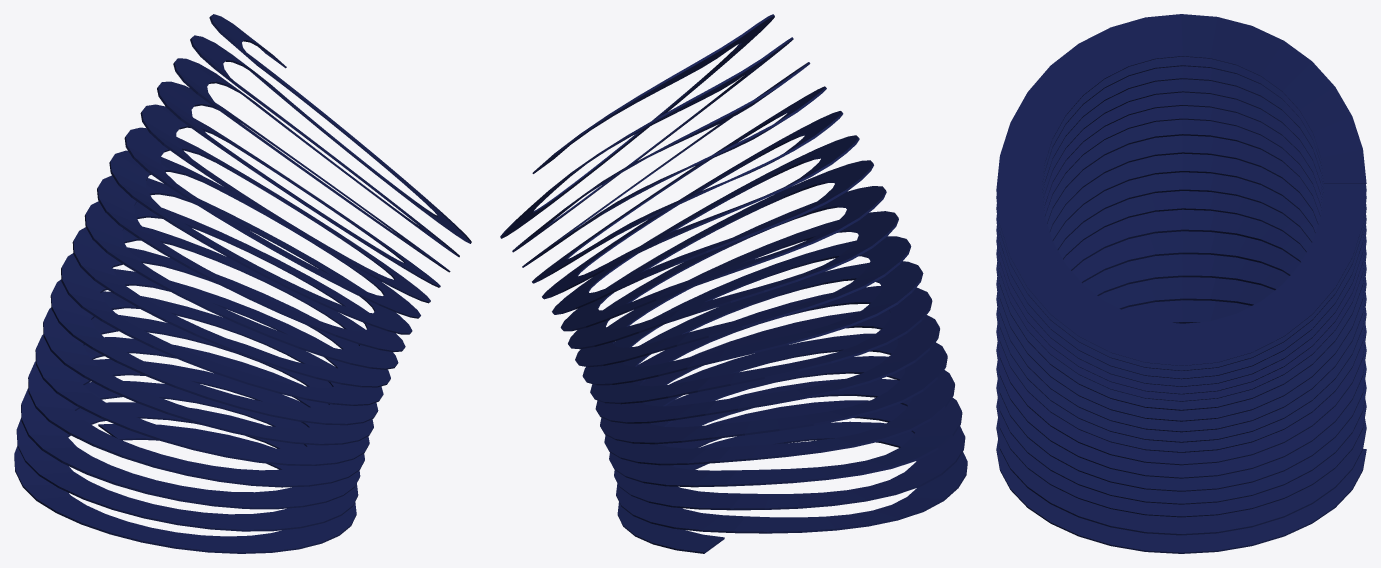
Rendered from final slink.fbx.
The picture shows the model from 3 angles, left to right: view 1: azimuth 30°, elevation 25°; view 2: azimuth 150°, elevation 25°; view 3: azimuth 270°, elevation 25°; orthographic projection. The views are drawn at different scales.
Parts seen in each view (by area): view 1: slink_2222y:Mesh; view 2: slink_2222y:Mesh; view 3: slink_2222y:Mesh.
Part boxes in pixels (x1,y1,x2,y2): slink_2222y:Mesh: (14,14,471,553); slink_2222y:Mesh: (500,14,967,553); slink_2222y:Mesh: (996,14,1366,553).
Bounding box in the file's own units: 2.78 × 3.01 × 2.07.
